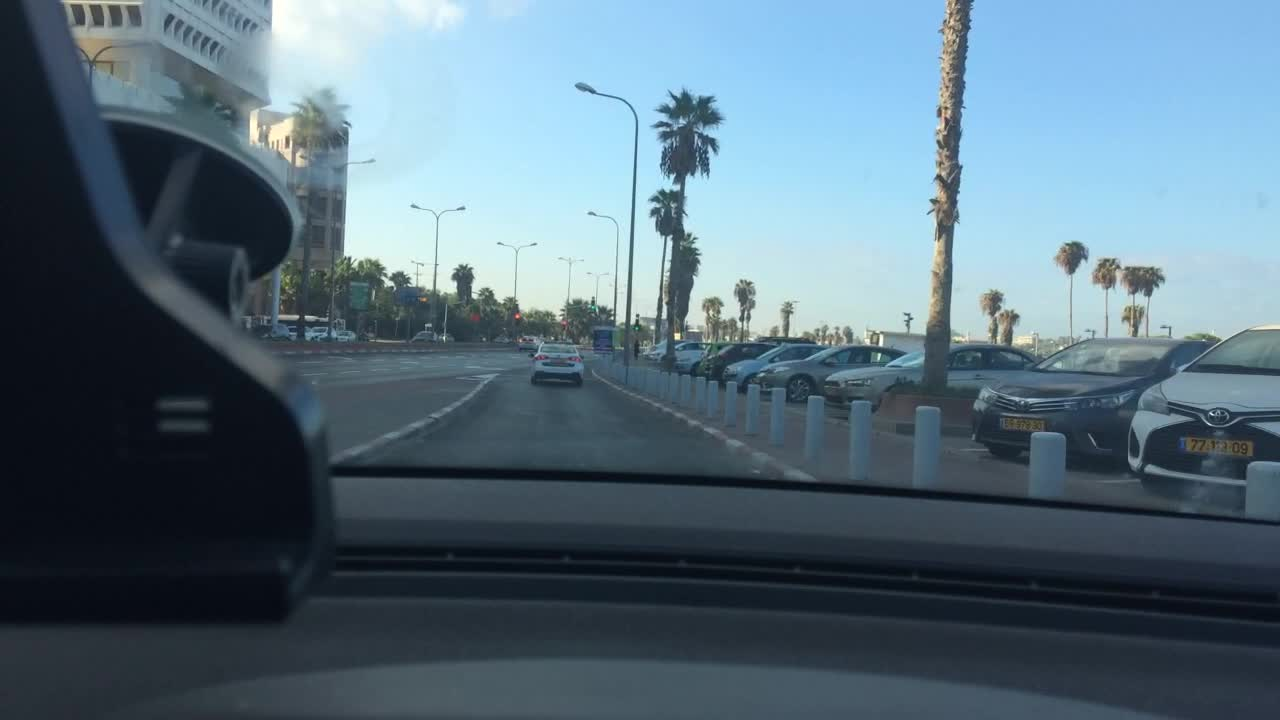car: (1123, 323, 1279, 512), (971, 337, 1209, 459), (818, 344, 1037, 412), (746, 344, 908, 403), (721, 344, 825, 383), (703, 338, 777, 379), (529, 340, 585, 387), (664, 340, 735, 373), (652, 339, 714, 363), (642, 334, 684, 358), (283, 323, 315, 341), (515, 331, 540, 353), (313, 323, 337, 342), (269, 322, 291, 342), (431, 329, 454, 345), (410, 332, 439, 344), (335, 328, 358, 342)
traffic light: (632, 319, 641, 332), (588, 297, 596, 311)
traffic sign: (347, 280, 368, 313), (591, 329, 613, 355), (396, 287, 421, 308)
